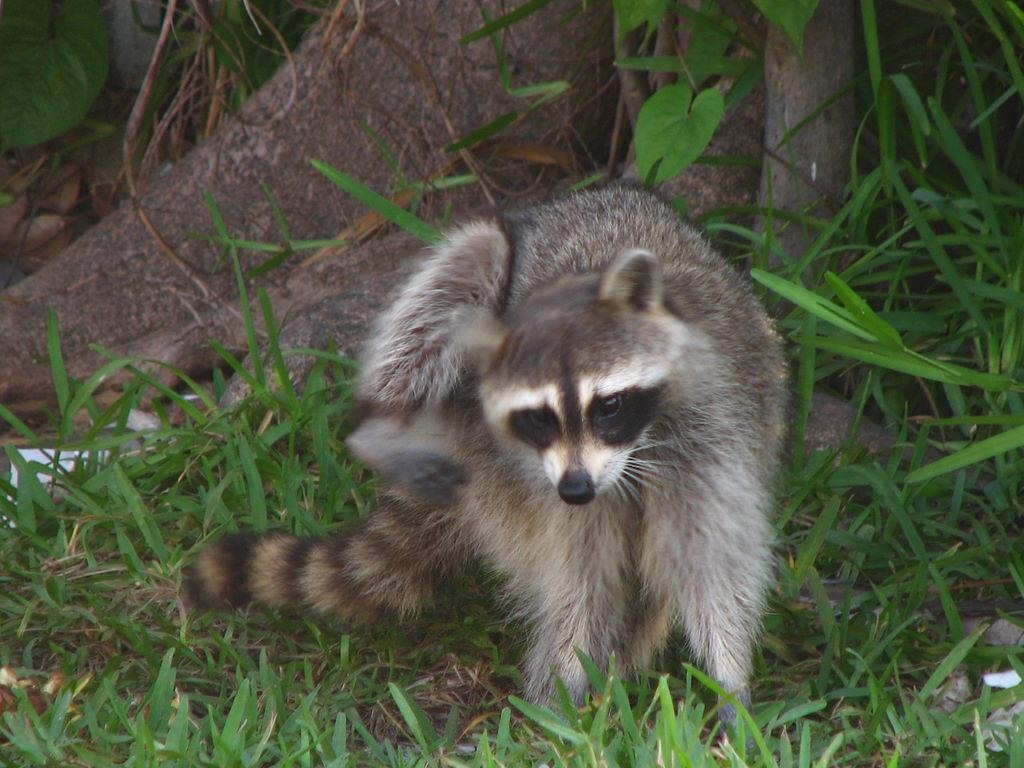raccoon: (159, 157, 818, 748)
